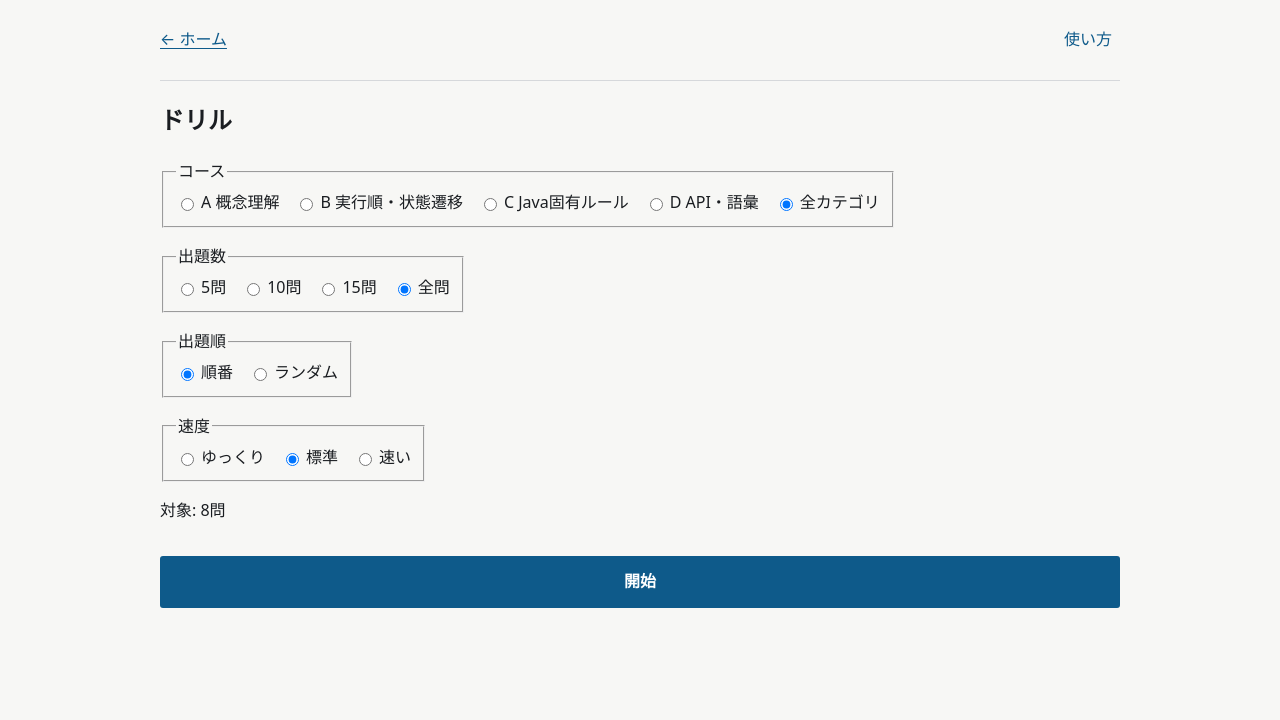
Test: Drill Rating integration › records ○ 分かった then advances to Question 2 with a fresh timer
expect the element "理解度" is not shown: met
What coordinates should you click on to do the following:
click the button "開始"
I would click on:
 (640, 582)
Its box is [160,556,1120,608].
Wait 10000 ms
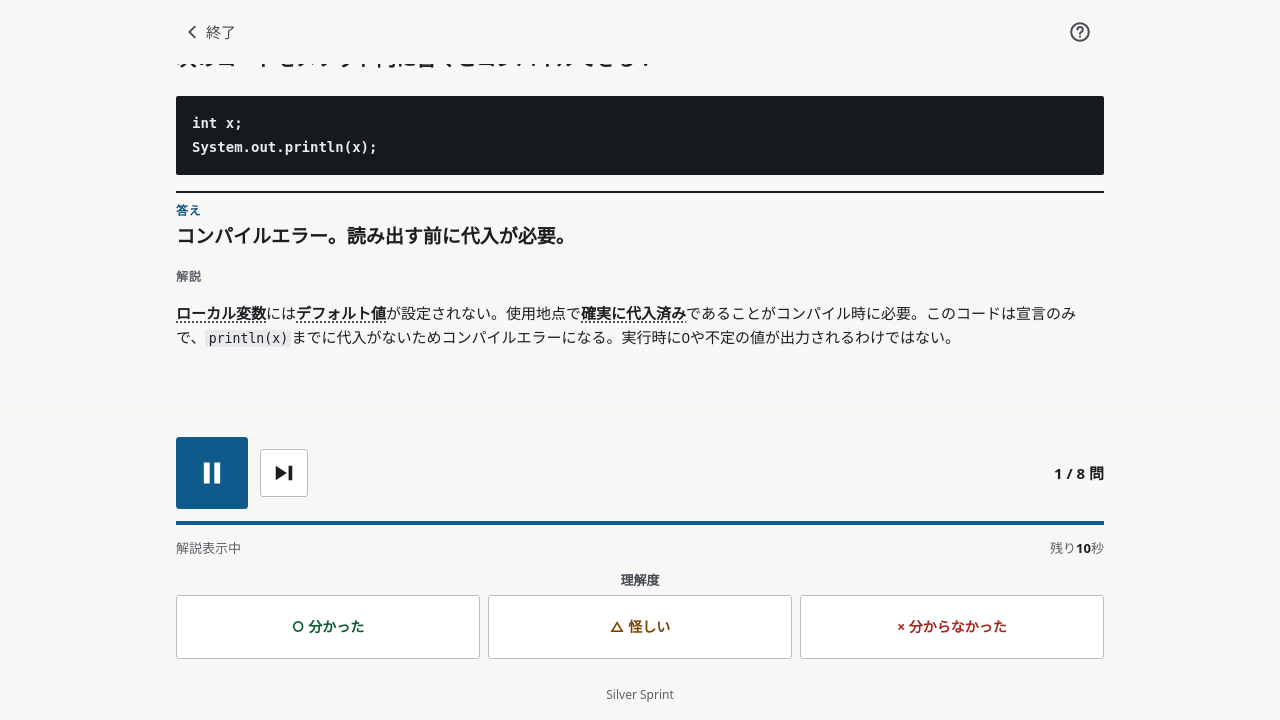
expect the element "理解度" is shown: met, box [176,570,1104,659]
What coordinates should you click on to do the following:
click the button named "一時停止"
I would click on:
 (212, 473)
Its box is [176,437,248,509].
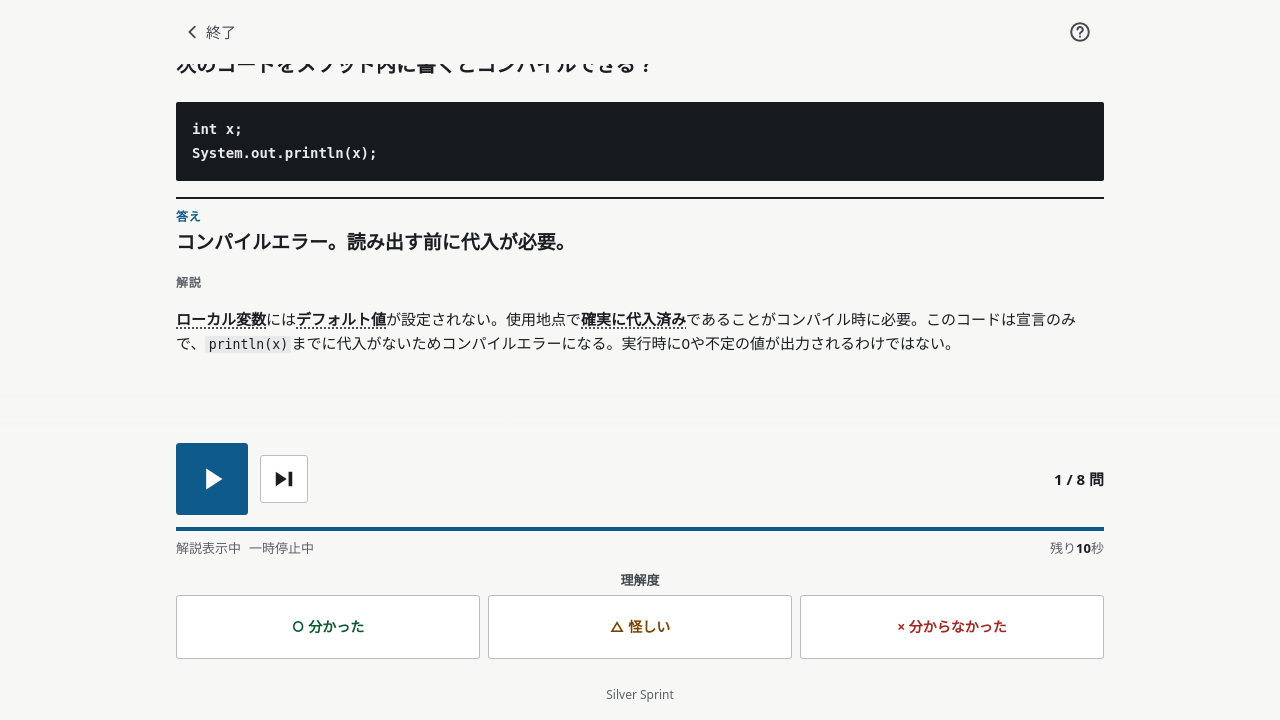
What coordinates should you click on to do the following:
click the button "○ 分かった"
I would click on:
 (328, 627)
Its box is [176,595,480,659].
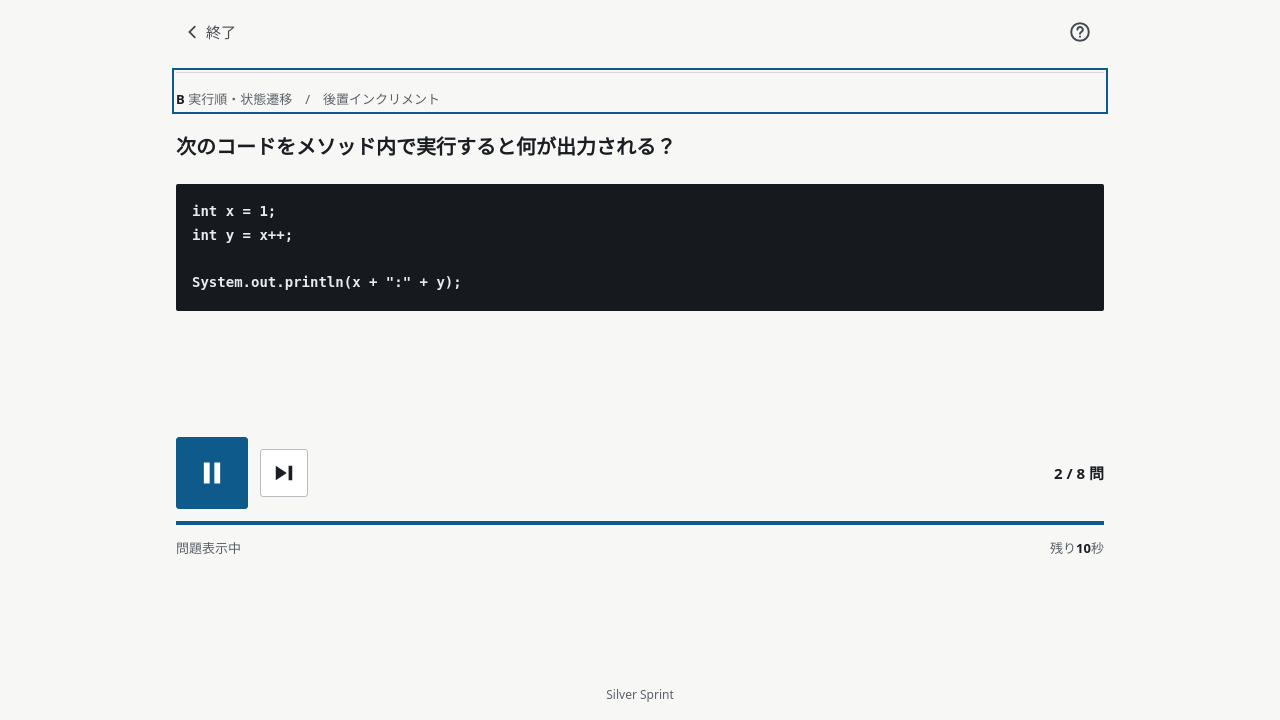
expect the progress indicator named "残り時間" holds "10000": met, box [176,521,1104,525]
expect the text "理解度" is gone: met
